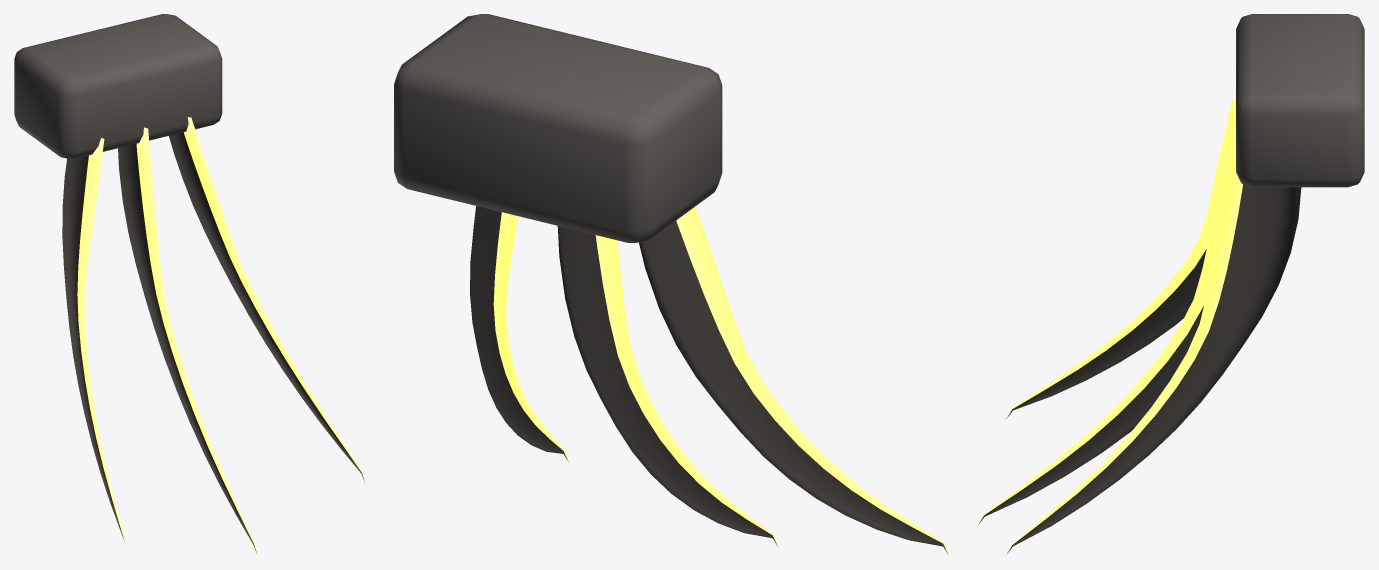
File: storm_claw.glb
3 views of the same model, side by side, from view 1: azimuth 30°, elevation 25°; view 2: azimuth 150°, elevation 25°; view 3: azimuth 270°, elevation 25° (orthographic). The views are drawn at different scales.
Parts seen in each view (by area): view 1: claw; view 2: claw; view 3: claw.
Part boxes in pixels (x1,y1,x2,y2): claw: (14,14,365,554); claw: (394,14,948,554); claw: (978,14,1364,554).
Size of the model in its own units: 0.504 by 0.8103 by 0.6022.
